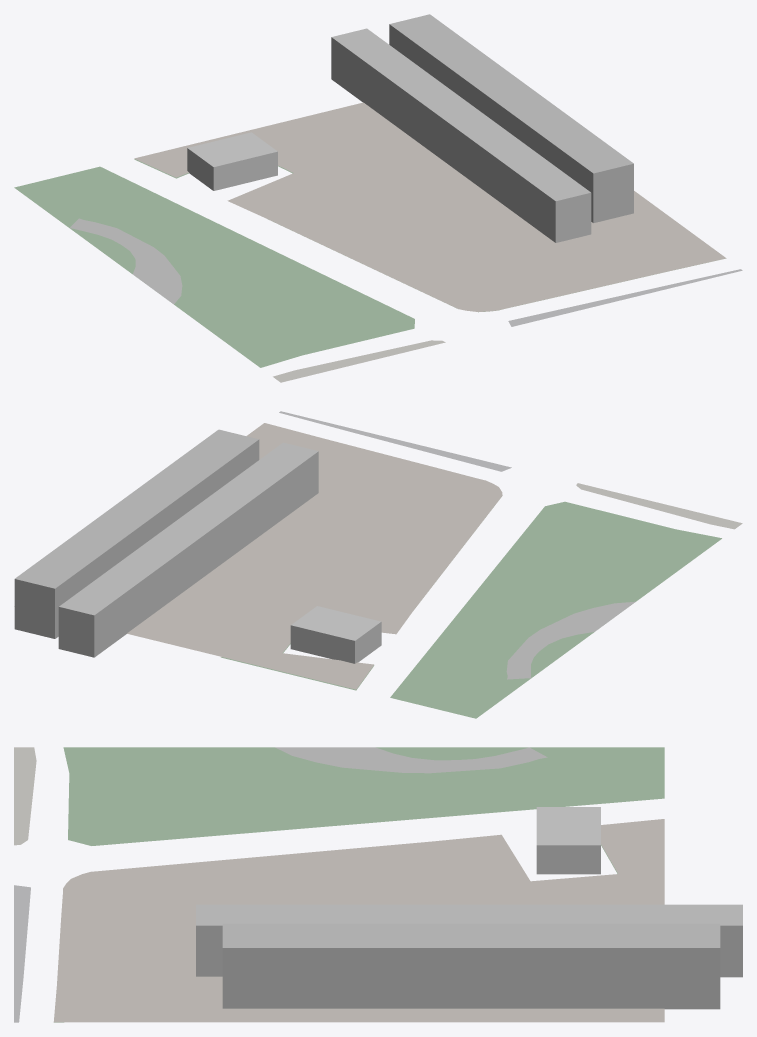
Rendered from 118_81_mid.glb.
The picture shows the model from 3 angles, top to bottom: view 1: azimuth 30°, elevation 25°; view 2: azimuth 150°, elevation 25°; view 3: azimuth 270°, elevation 25°; orthographic projection. The views are drawn at different scales.
Size of the model in its own units: 500 by 52.35 by 560.
